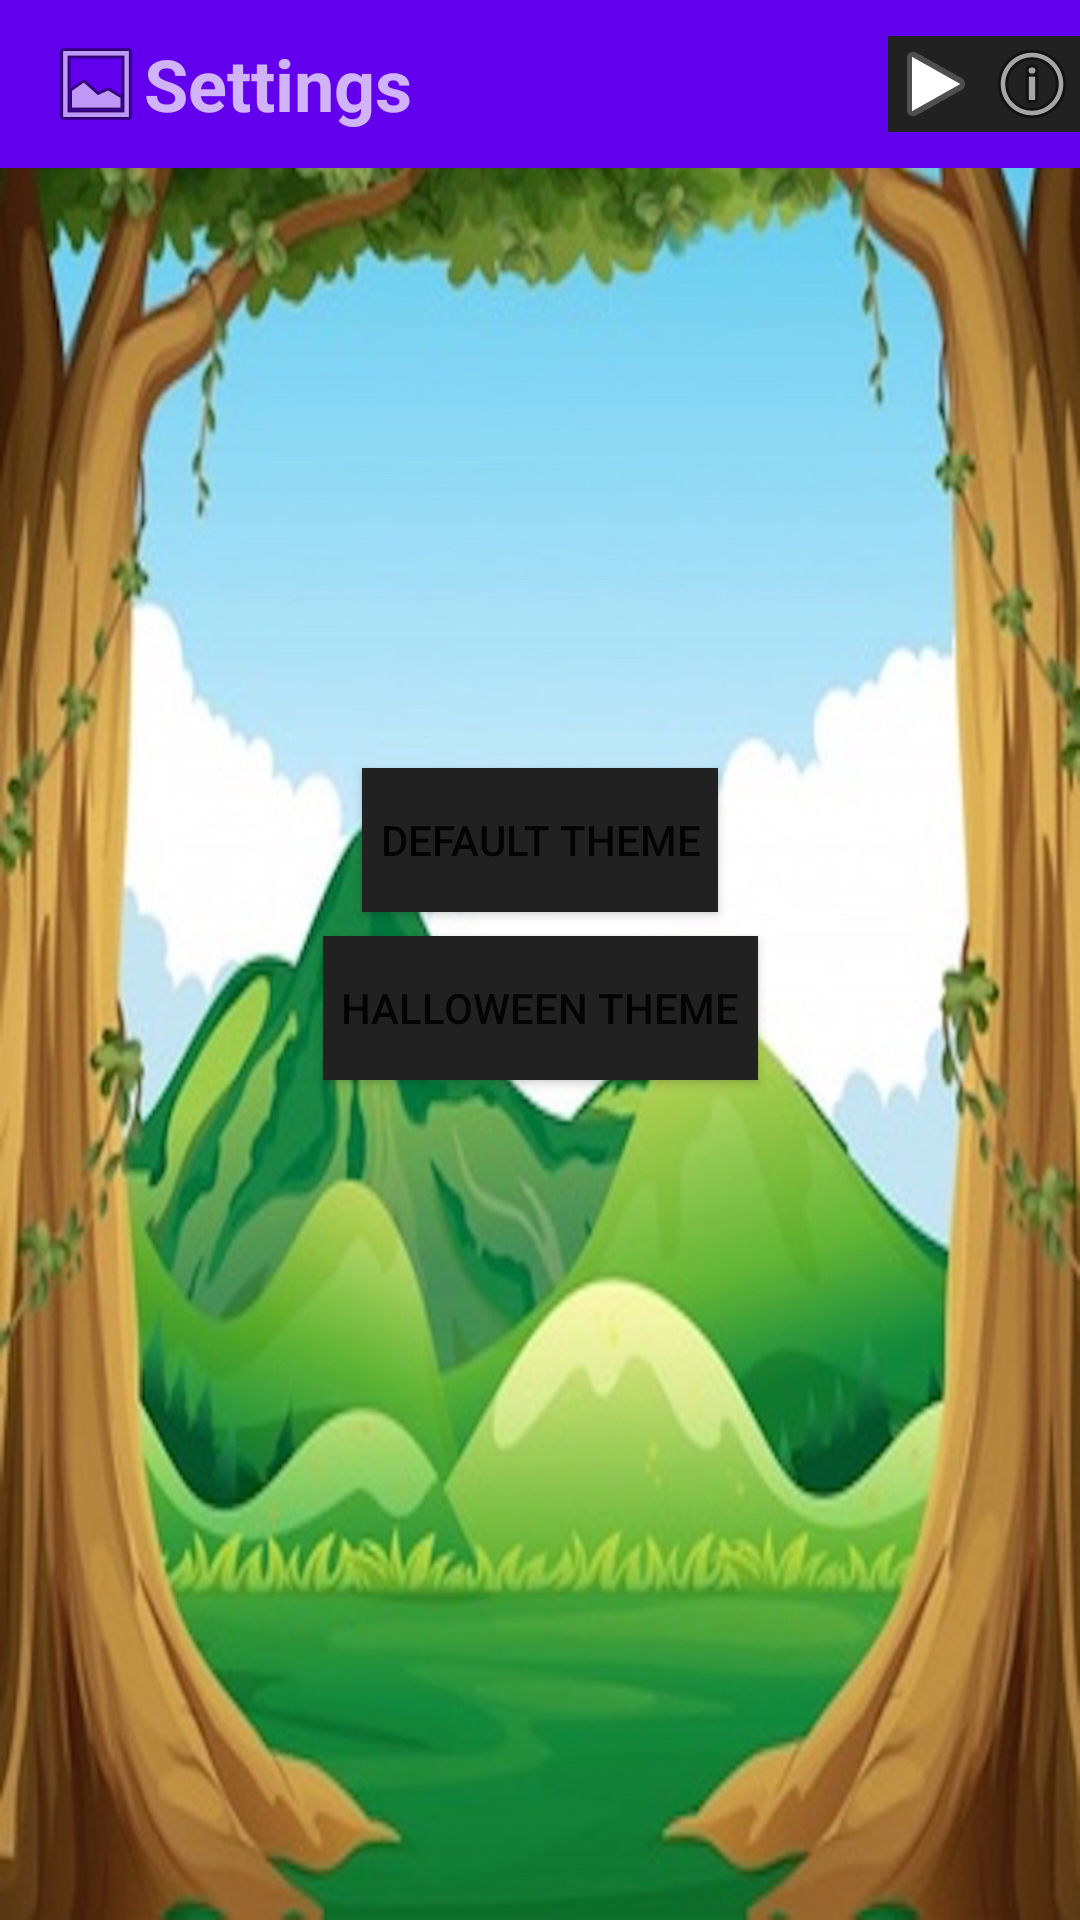

Icon click points for this 1080px×1920px phone screenshot, format [x,y]:
info button: [1032,84]
play button: [936,84]
